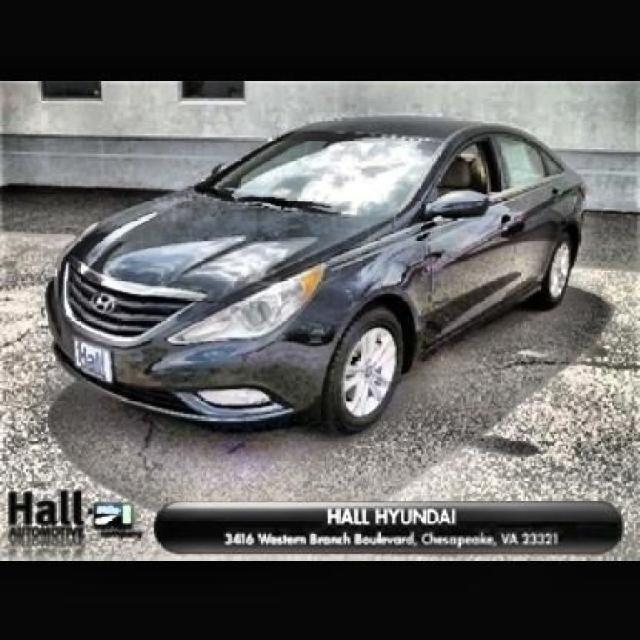black: (17, 109, 640, 465)
